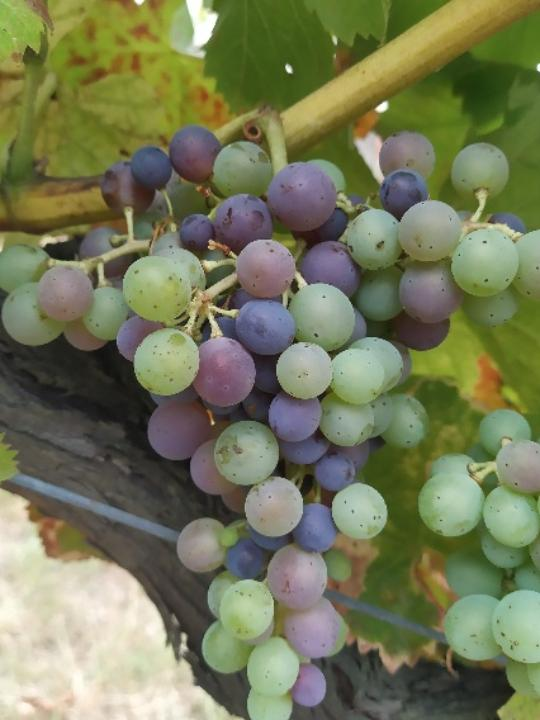grape: (0, 129, 540, 720)
